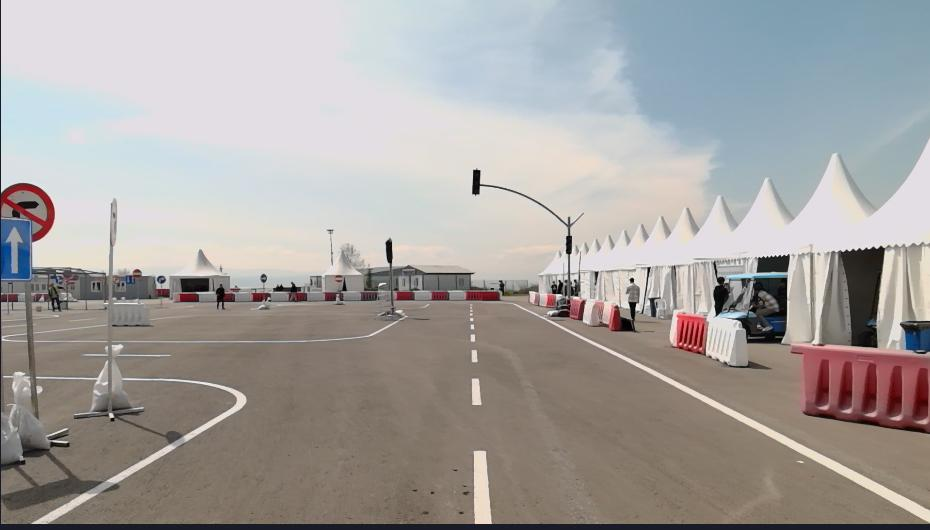nesne: (0, 298, 928, 525), (21, 301, 494, 526), (468, 300, 929, 524), (507, 302, 929, 524), (3, 374, 247, 526), (791, 343, 930, 432), (2, 316, 407, 343), (716, 275, 787, 345), (231, 289, 499, 303), (11, 367, 51, 454), (0, 181, 54, 243), (88, 342, 132, 409), (0, 218, 35, 280), (707, 320, 747, 365), (2, 399, 26, 464), (674, 312, 710, 354), (472, 450, 492, 524), (107, 303, 152, 326), (580, 297, 615, 324), (81, 350, 165, 358), (712, 275, 729, 312), (626, 276, 639, 323), (464, 288, 500, 301), (47, 280, 61, 311), (608, 305, 623, 330), (568, 296, 585, 317), (214, 282, 225, 312), (528, 290, 548, 305), (470, 377, 480, 406), (375, 290, 397, 302), (341, 289, 362, 301), (178, 291, 198, 303), (232, 291, 252, 303), (271, 290, 290, 302), (325, 289, 342, 302), (251, 291, 271, 302), (411, 289, 431, 300), (446, 288, 466, 299), (198, 290, 216, 302), (360, 289, 378, 301), (430, 289, 448, 301), (304, 290, 325, 300), (289, 290, 306, 301), (395, 290, 412, 300), (544, 293, 556, 305), (170, 293, 180, 304), (223, 292, 234, 302), (471, 350, 477, 363), (471, 333, 476, 342), (470, 322, 474, 331)
